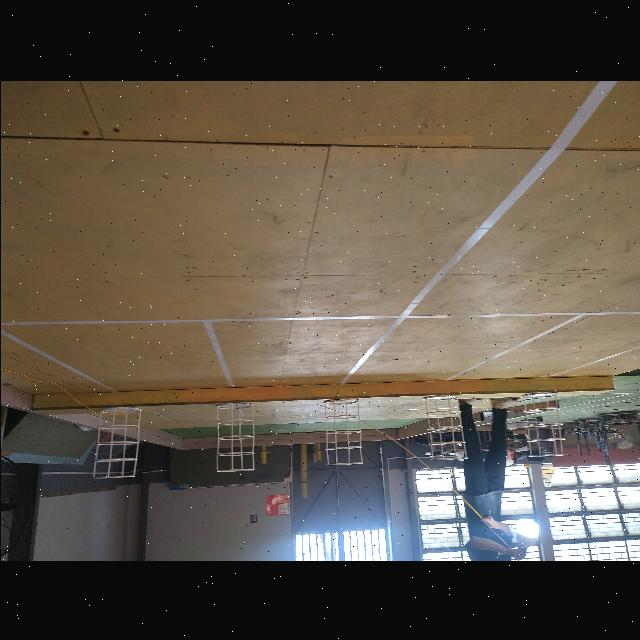S: (90, 404, 144, 480), (214, 403, 260, 471), (521, 389, 565, 459), (324, 394, 366, 466), (422, 391, 463, 463)
